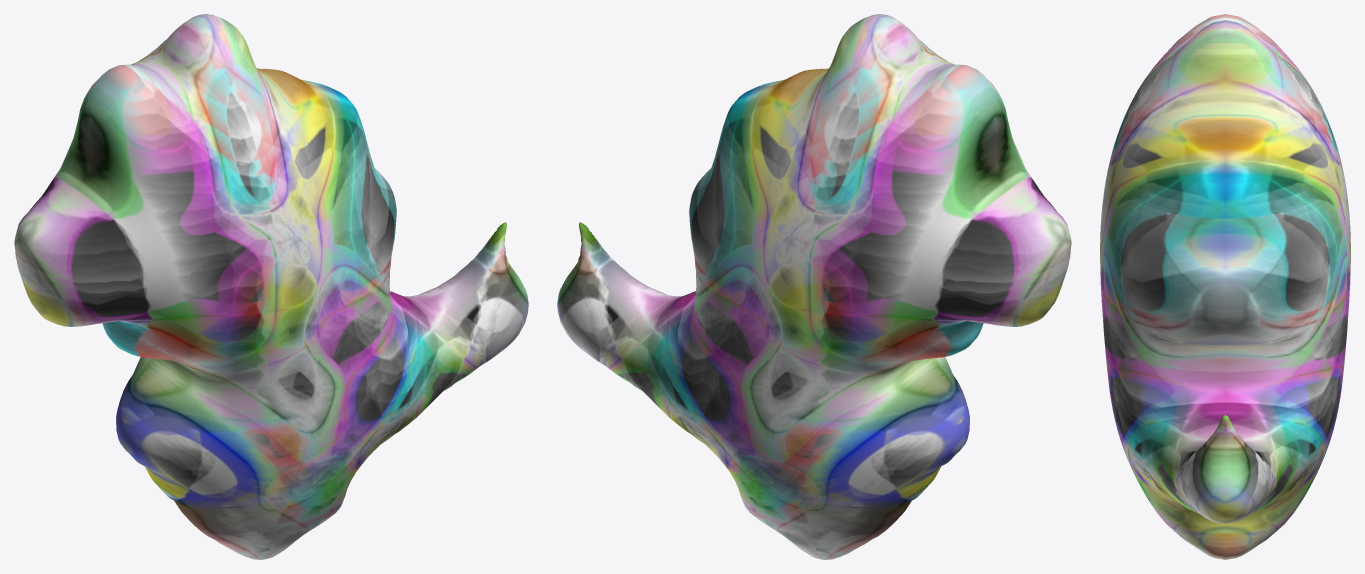
File: noise3.glb
3 renders of one model, left to right at view 1: azimuth 30°, elevation 25°; view 2: azimuth 150°, elevation 25°; view 3: azimuth 270°, elevation 25°, orthographic. The views are drawn at different scales.
Size of the model in its own units: 5.74 by 6.01 by 2.67.
1 material, 1 textured.
